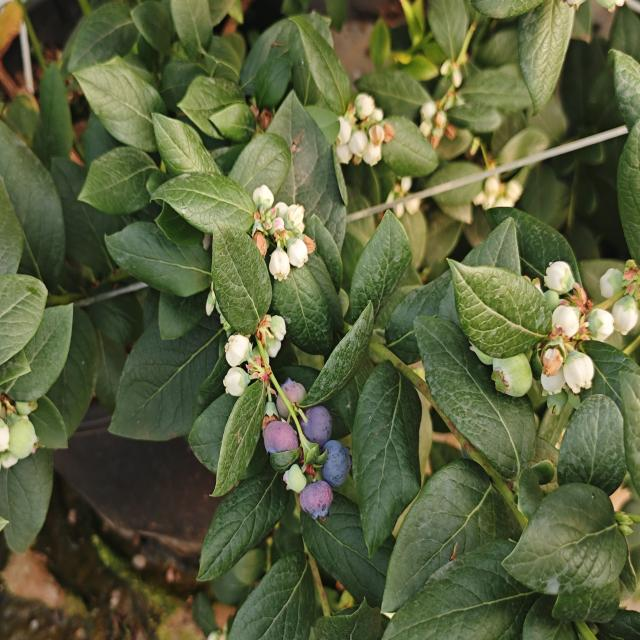ripe: (318, 438, 352, 490), (297, 478, 335, 522), (261, 418, 300, 458), (303, 400, 333, 442)
